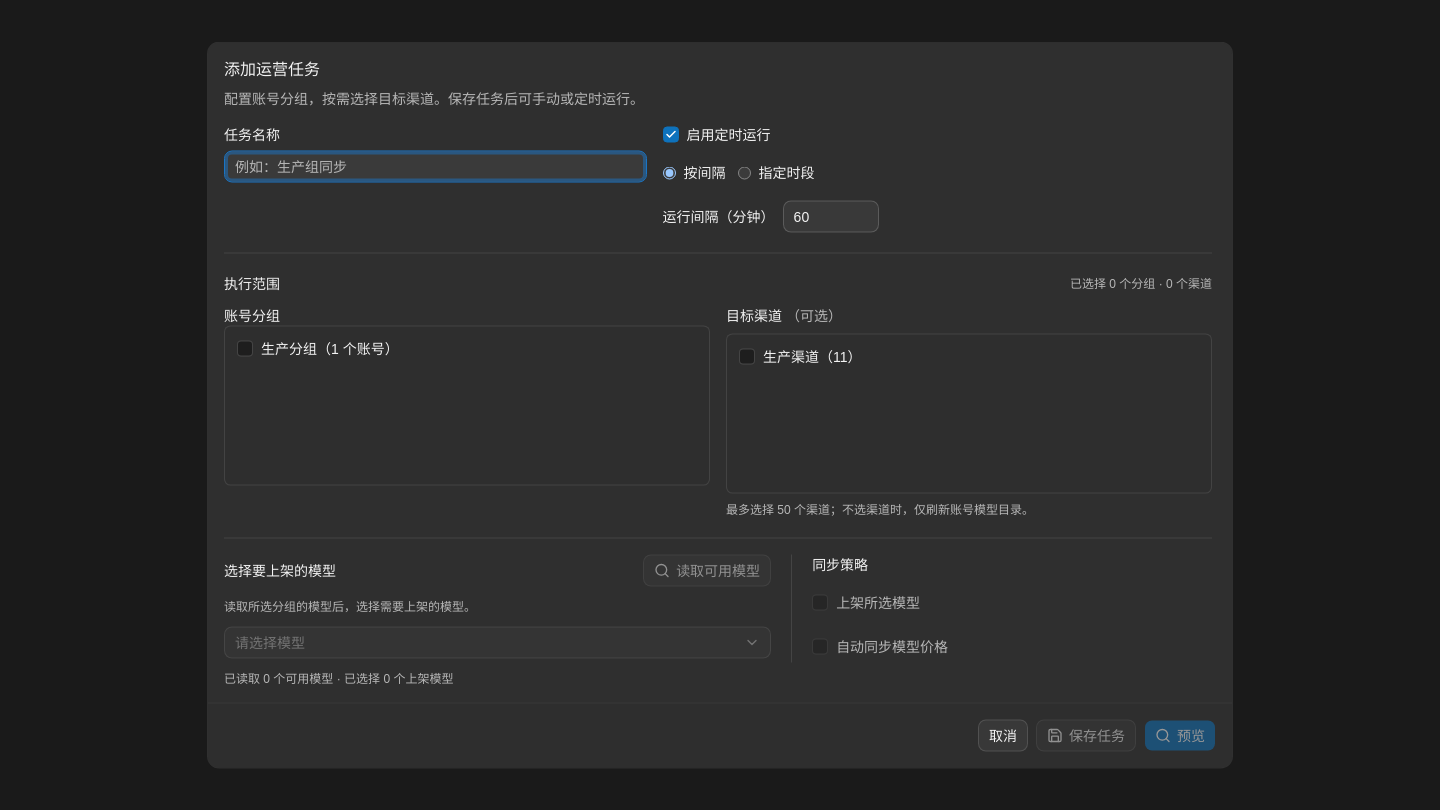
未选择渠道时，预览请求只包含分组并关闭价格同步
This screenshot has width=1440, height=810.
Expected: the button "预览" is disabled, [1144, 720, 1216, 752]
Click the checkbox named "生产分组" next to "生产分组": [245, 348] box [237, 340, 253, 356]
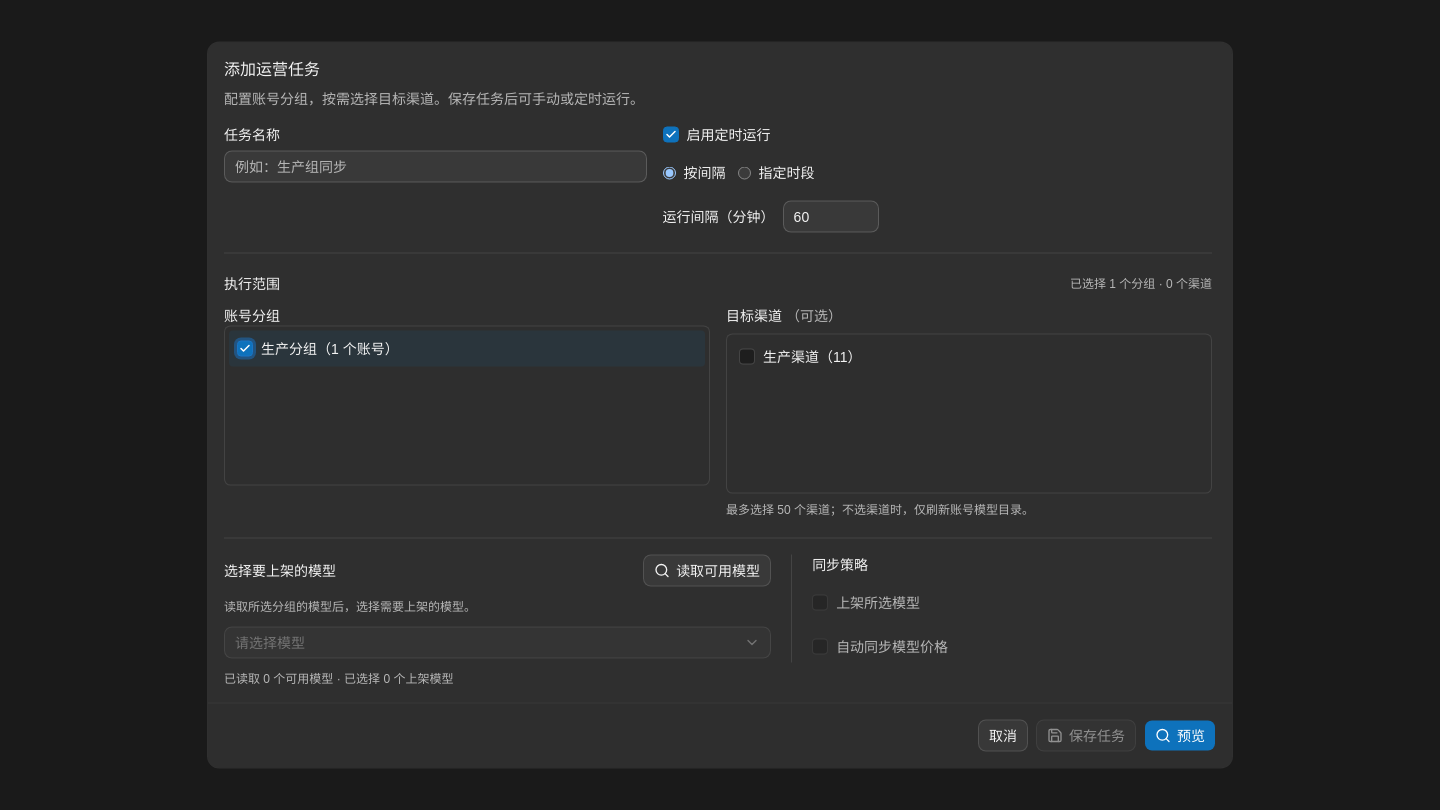
Now the button "预览" is enabled
Click the button "预览": [1180, 736] box [1144, 720, 1216, 752]
(page scrolled)
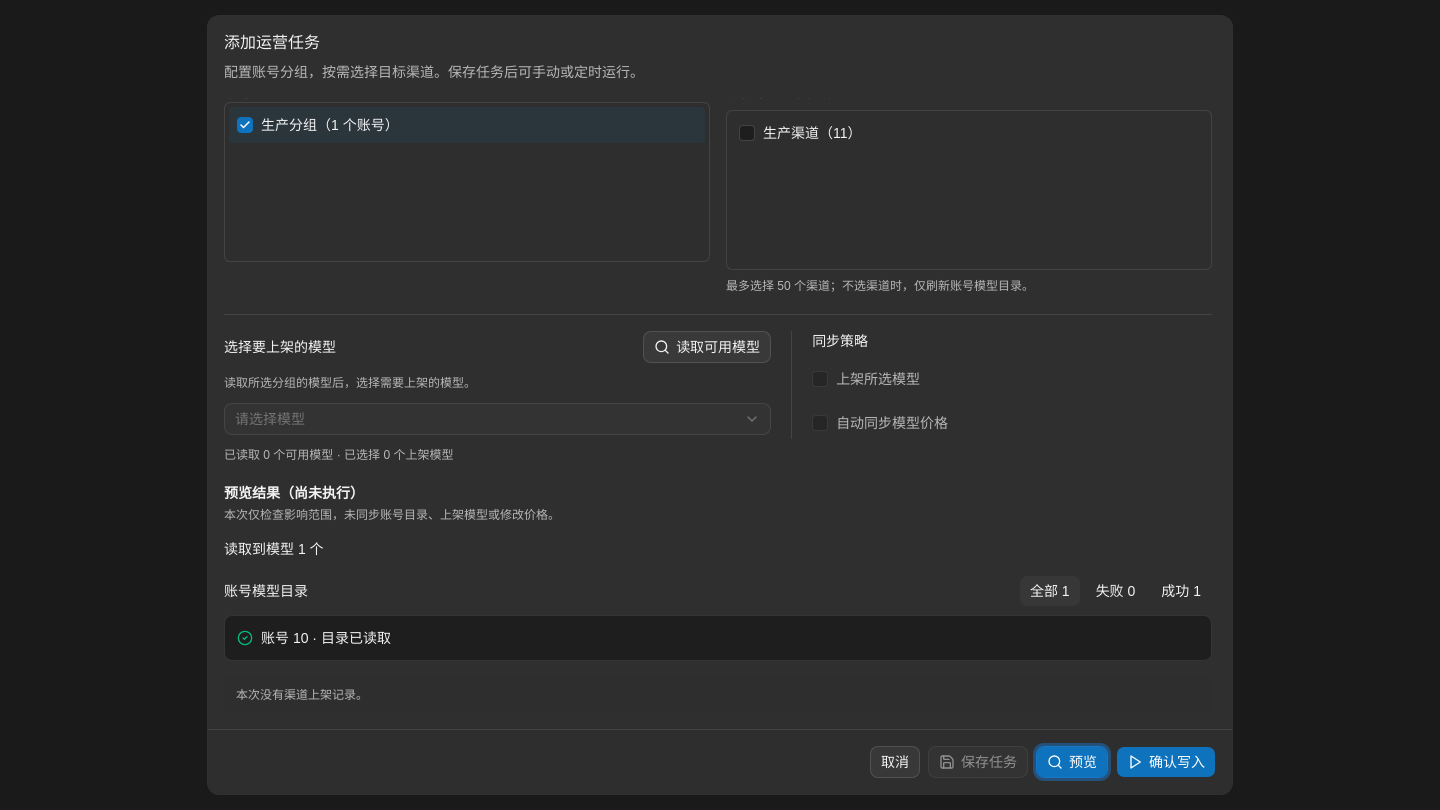
Now the element named "运营预览结果" shows "模型 1 个", box [224, 541, 324, 557]
